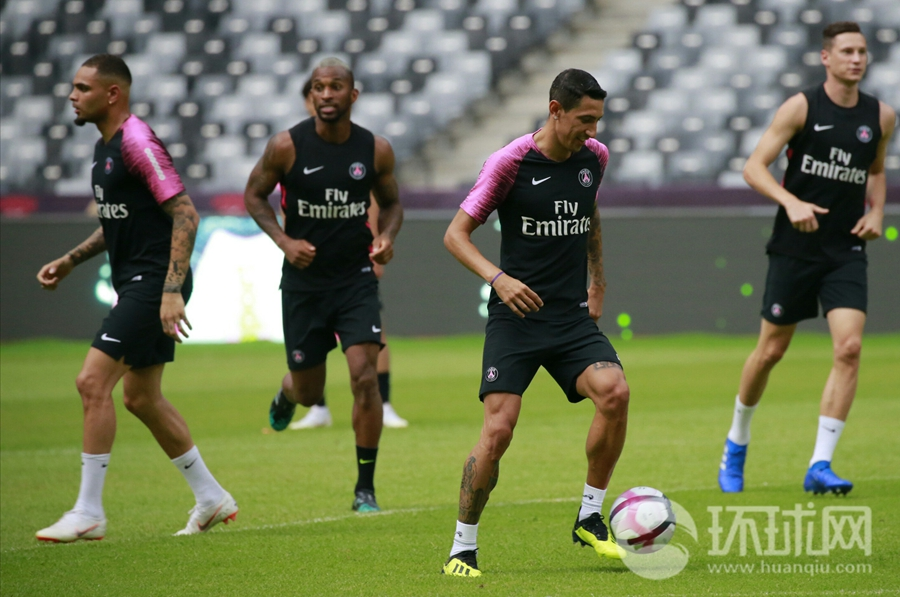person: (37, 50, 244, 547), (439, 66, 638, 581), (713, 15, 898, 501), (242, 59, 409, 519)
